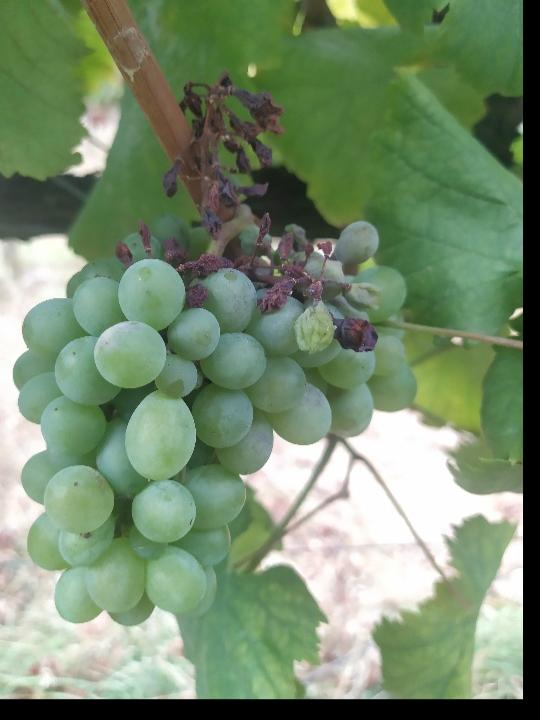grape: (5, 65, 419, 628)
